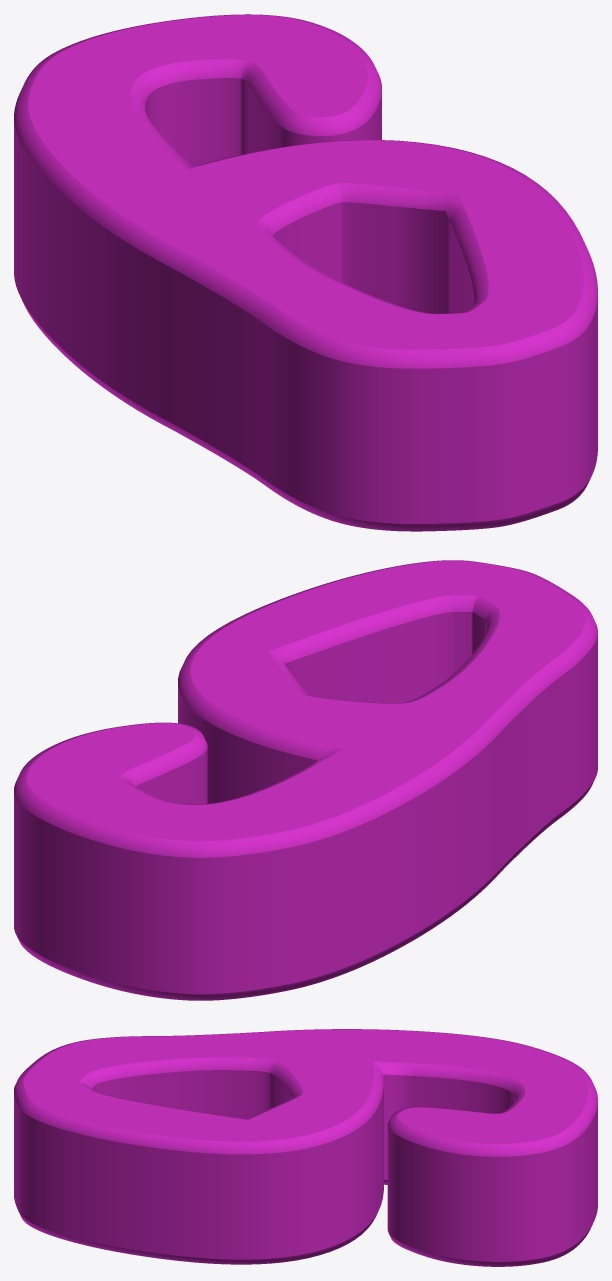
File: Bubble_Letter_g.fbx
3 renders of one model, top to bottom at view 1: azimuth 30°, elevation 25°; view 2: azimuth 150°, elevation 25°; view 3: azimuth 270°, elevation 25°, orthographic. The views are drawn at different scales.
Visible parts, largest first — view 1: BubbleLetter_g; view 2: BubbleLetter_g; view 3: BubbleLetter_g.
Boxes of the visible parts, x1,y1,x2,y2 form: BubbleLetter_g: (14, 14, 597, 531); BubbleLetter_g: (14, 560, 597, 1000); BubbleLetter_g: (14, 1029, 597, 1266).
Size of the model in its own units: 0.3002 by 0.14 by 0.6039.
